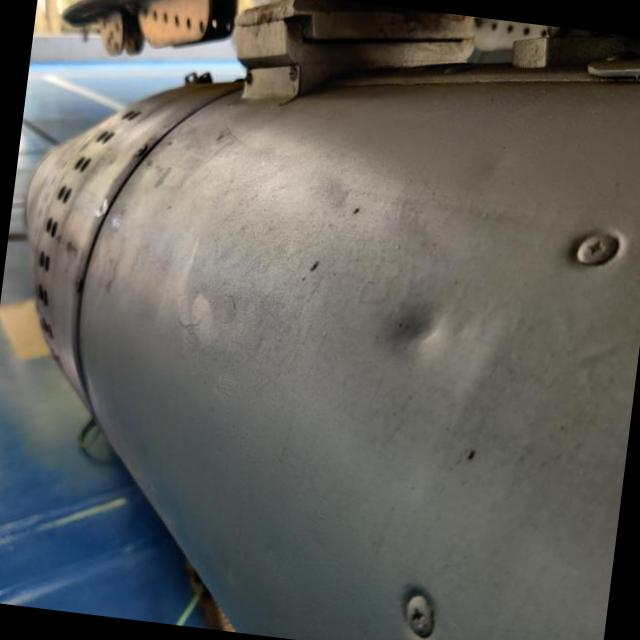Dent: (349, 255, 475, 384)
